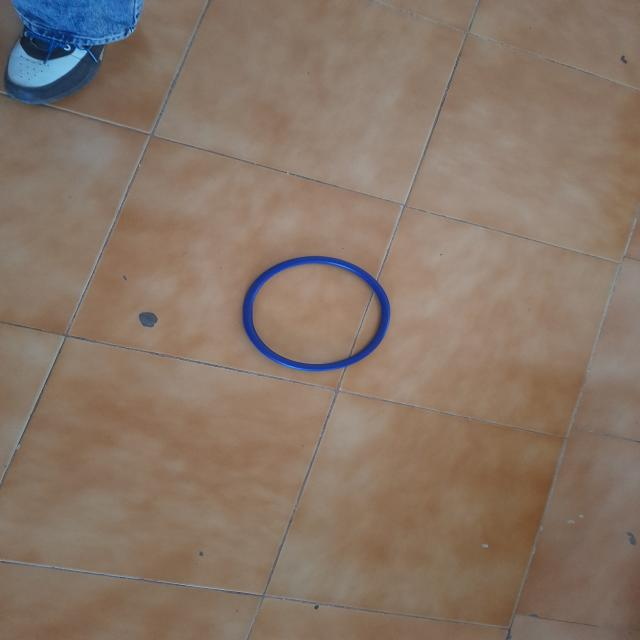daire: (243, 255, 394, 377)
